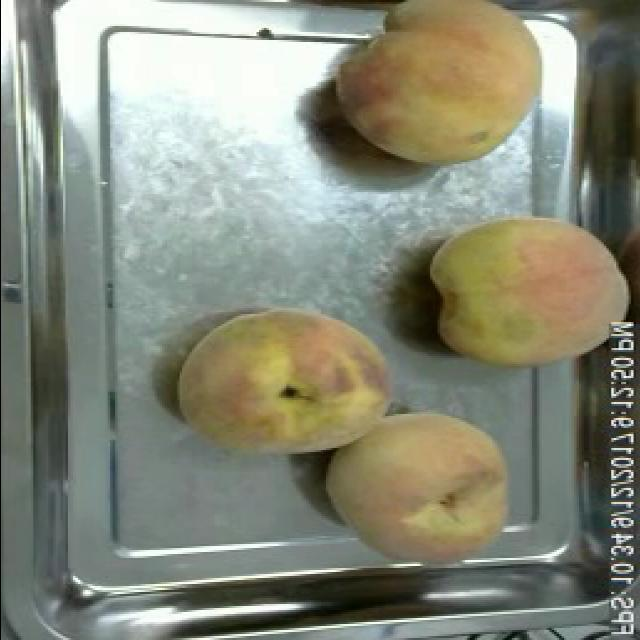Fruit: (322, 0, 556, 178), (420, 200, 638, 380), (172, 298, 400, 466), (317, 402, 524, 578)
